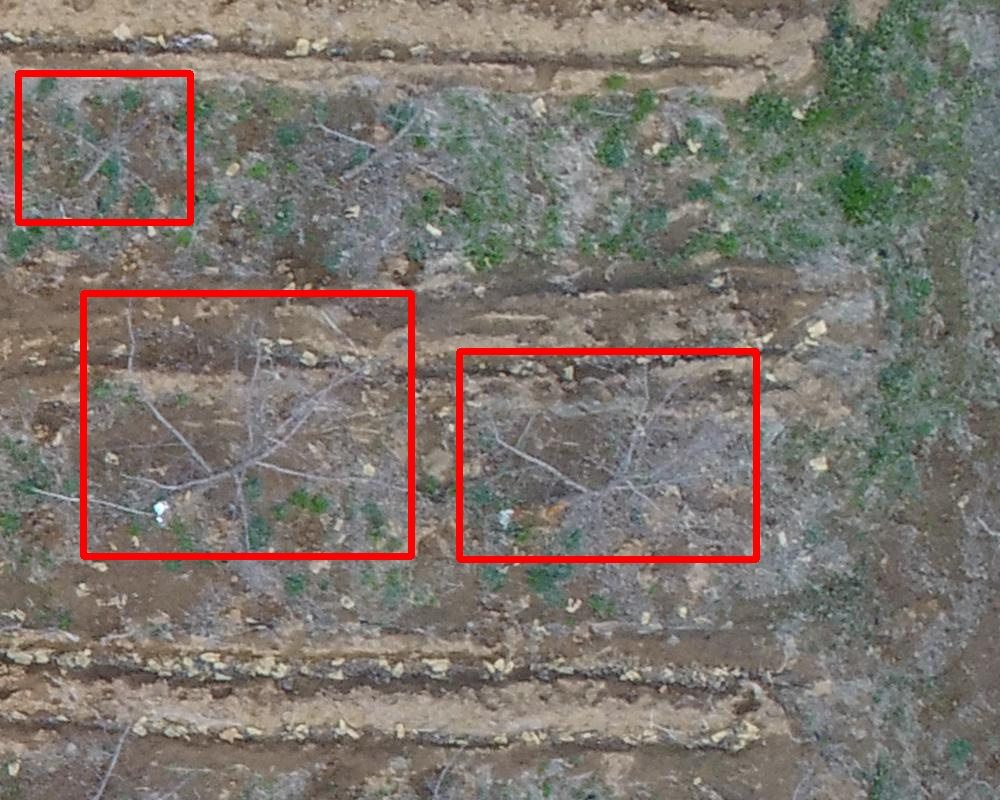apple: (83, 293, 411, 556), (459, 351, 756, 559), (18, 73, 190, 222)
